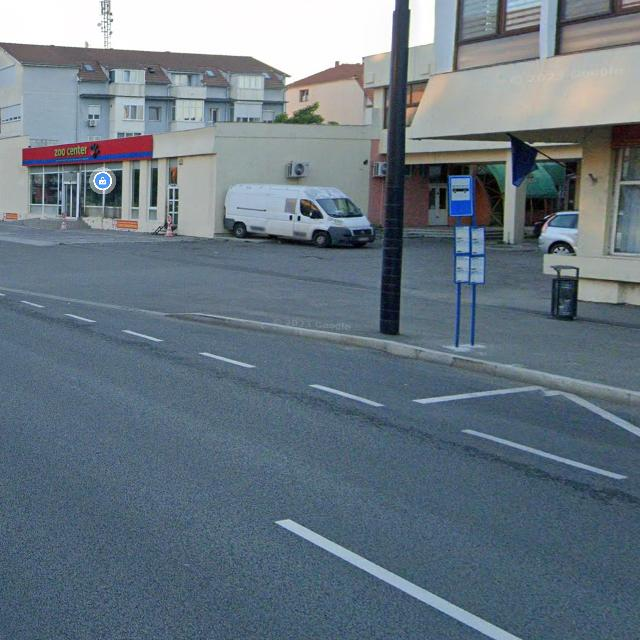info_bus_station: (448, 174, 473, 217)
